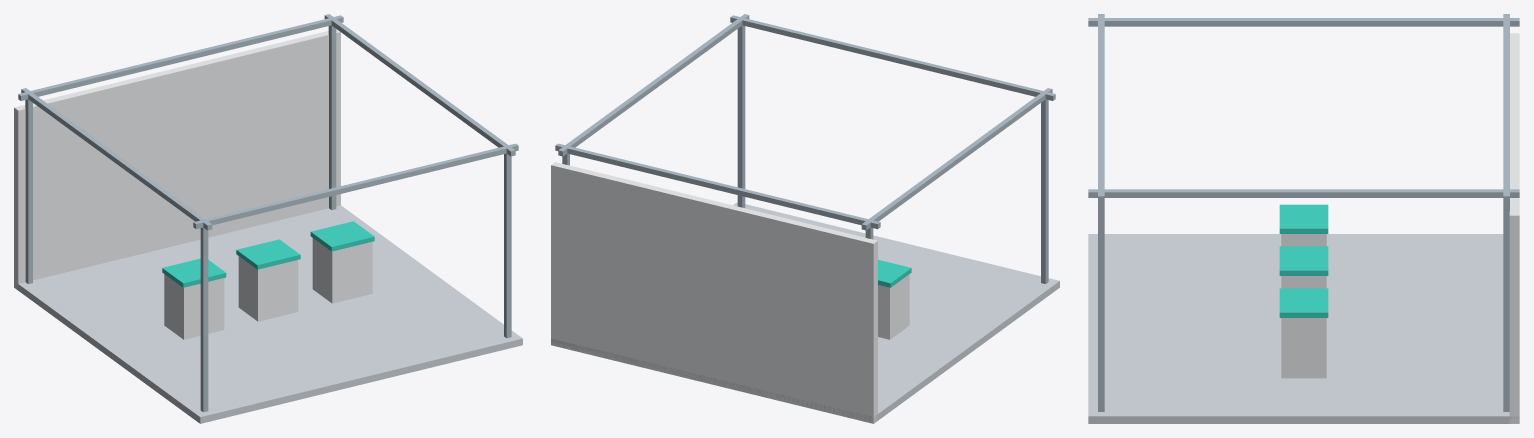
The picture shows the model from 3 angles, left to right: view 1: azimuth 30°, elevation 25°; view 2: azimuth 150°, elevation 25°; view 3: azimuth 270°, elevation 25°; orthographic projection. The views are drawn at different scales.
Parts seen in each view (by area): view 1: Exhibition Booth Concept; view 2: Exhibition Booth Concept; view 3: Exhibition Booth Concept.
Boxes of the visible parts, left/top/right/bottom form: Exhibition Booth Concept: left=14, top=14, right=522, bottom=423; Exhibition Booth Concept: left=551, top=14, right=1059, bottom=423; Exhibition Booth Concept: left=1088, top=14, right=1519, bottom=423.
Bounding box in the file's own units: 6 × 3.49 × 6.
